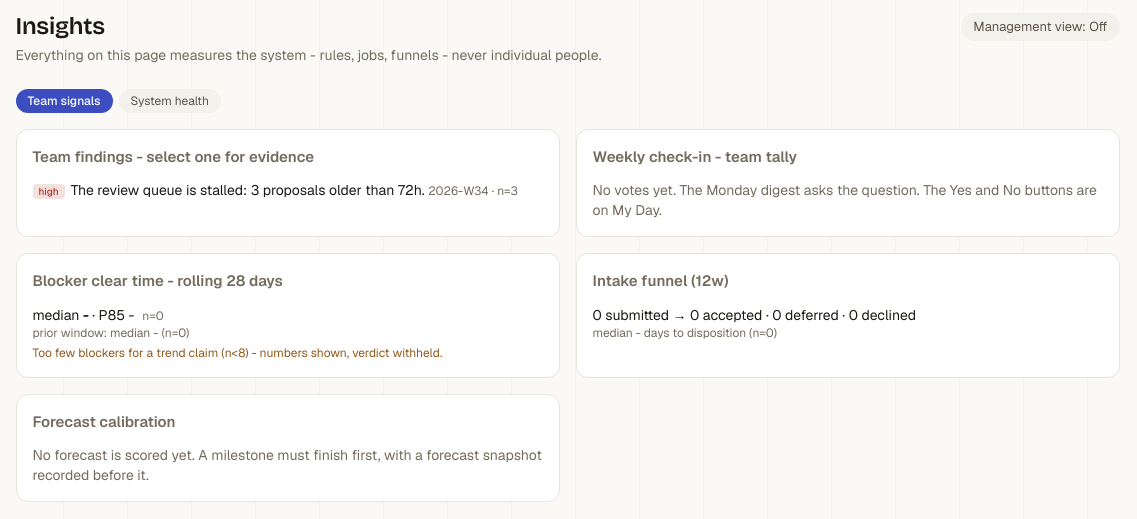
Test case: a finding's evidence panel › separates team signals from system health
Expected: the button with aria-label "high: The review queue is stalled" is shown, left=32, top=180, right=518, bottom=200
Expected: the text "The notification job is stale." is not shown
Click the button "System health".
click(170, 101)  # box left=118, top=89, right=221, bottom=113
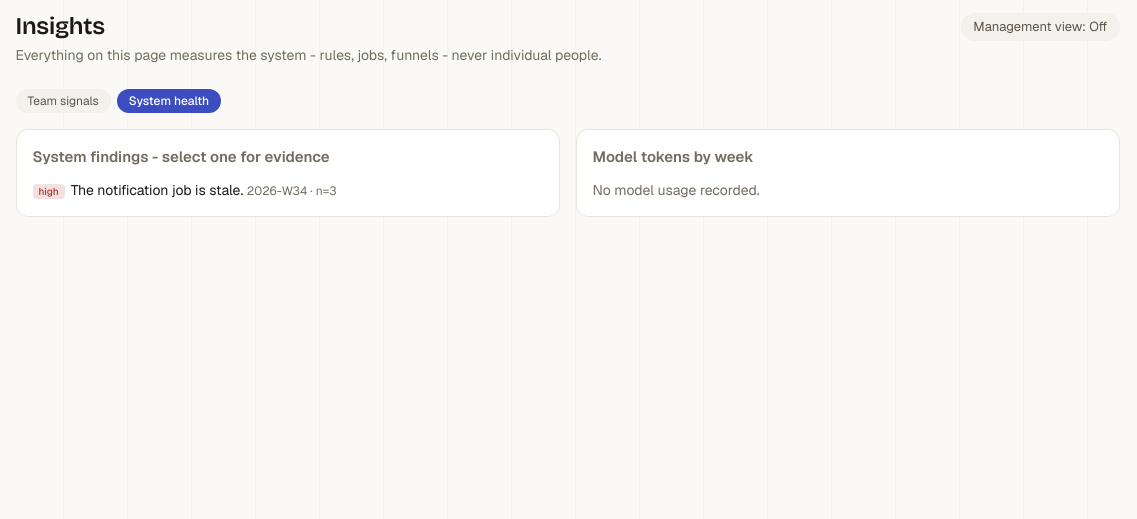
Now the button "The notification job is stale." is shown, box left=32, top=180, right=337, bottom=200
Now the button "The review queue is stalled: 3 proposals older than 72h." is gone
